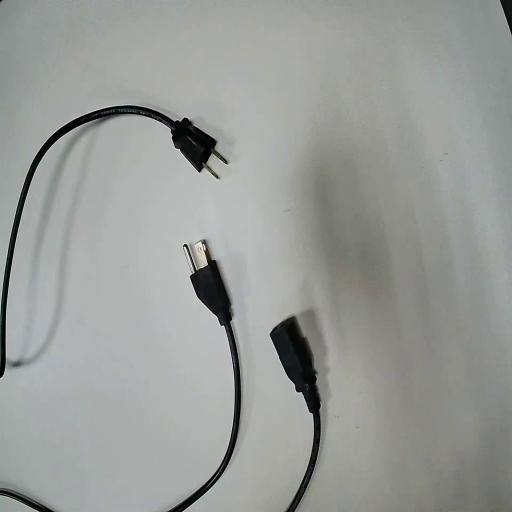wire: (0, 106, 215, 375), (170, 253, 240, 511), (271, 318, 319, 511)
